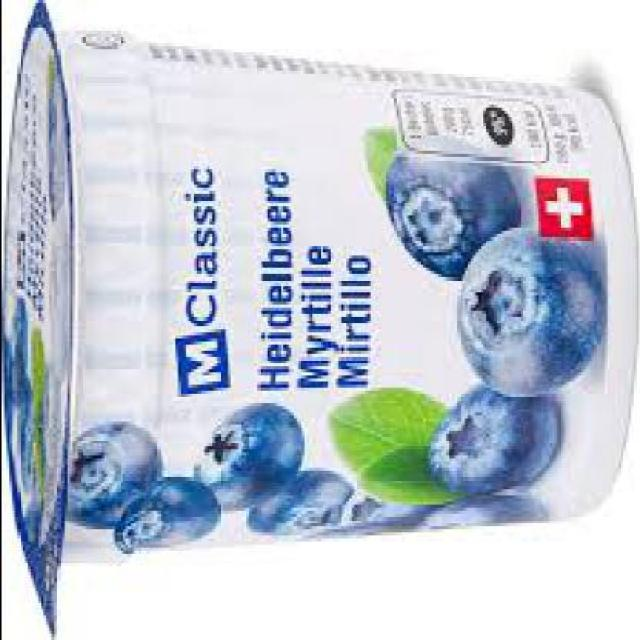PLASTIC: (1, 1, 638, 638)
